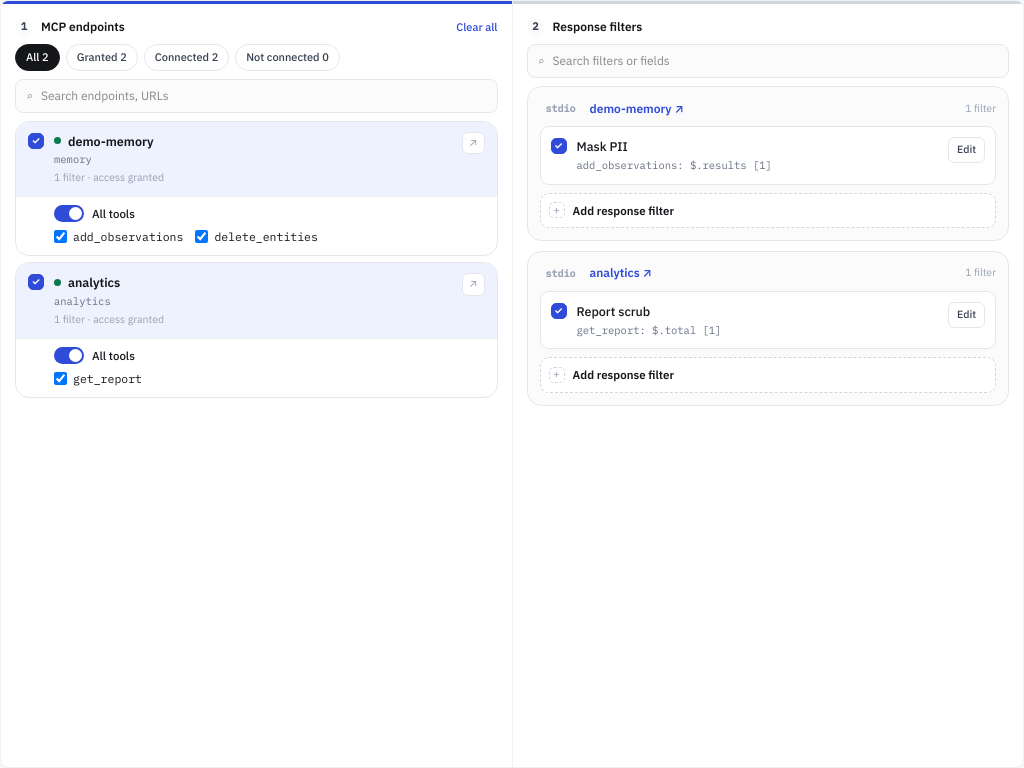
AccessTab › step 2 -- response filters › the single search box narrows named filters across every granted endpoint at once
This screenshot has width=1024, height=768.
Type "Report" into the field with placeholder "Search filters or fields" at (775, 61), box [552,45,998,77]
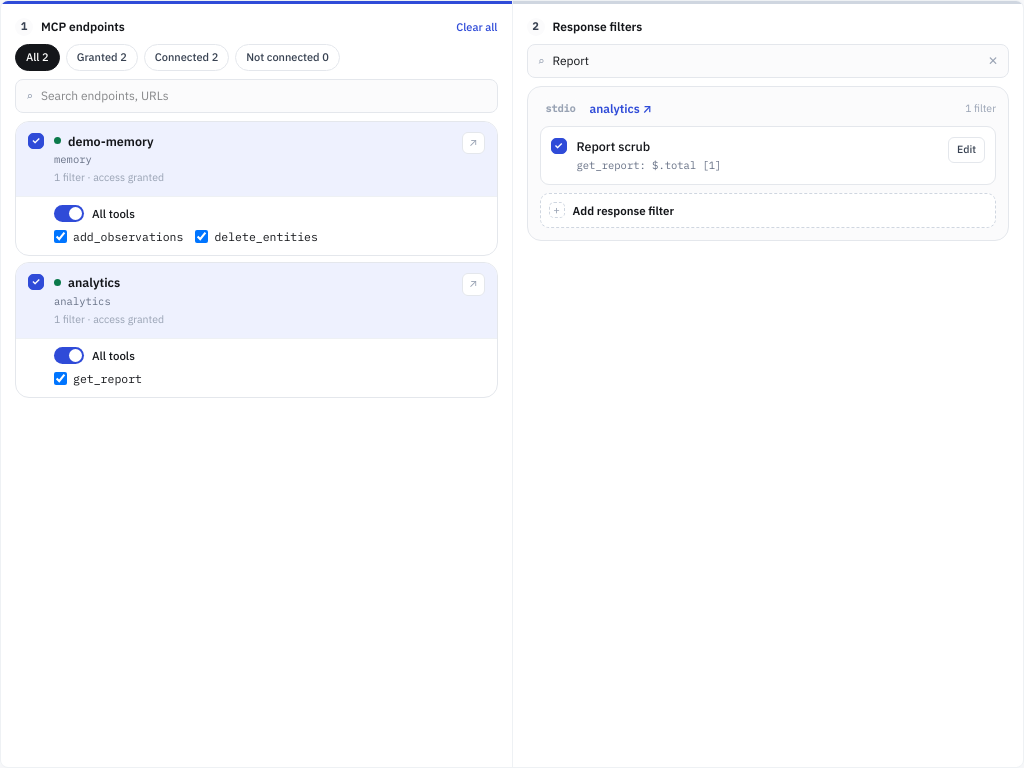
Expected: the text "Report scrub" is shown, [576,138,650,154]
Result: the text "Mask PII" is gone
